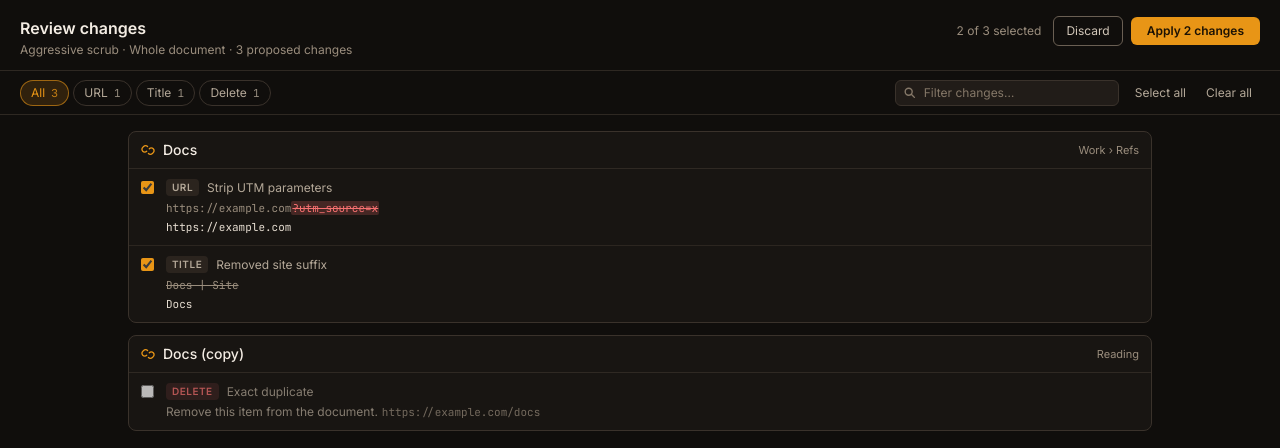
Test: ReviewPane › kind chips filter the list and bulk actions only touch what is shown
Click the button "Title 1" at (166, 92), box [136,80,195,106]
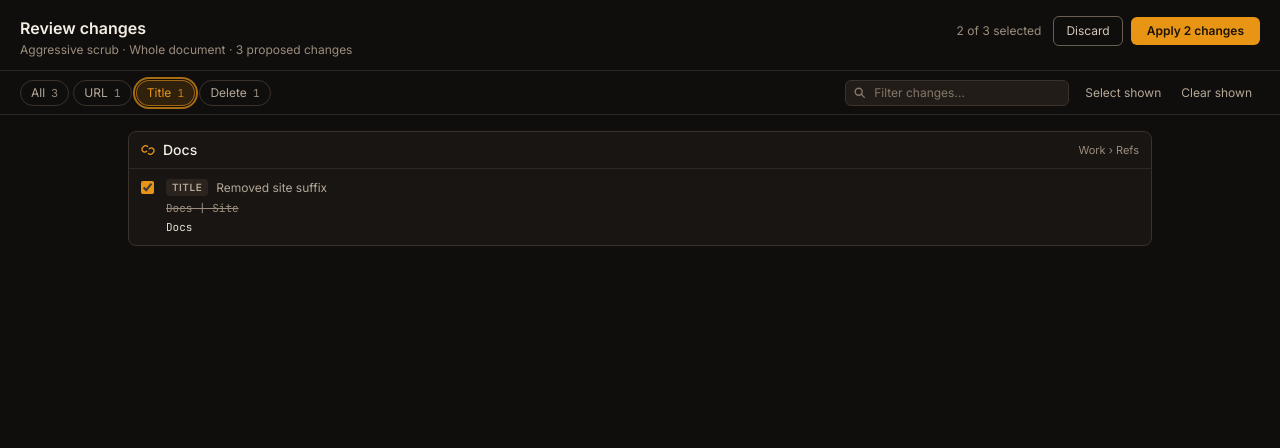
Expected: the text "Docs (copy)" is gone
Click the button "Clear shown" at (1217, 92), box [1173,80,1260,104]
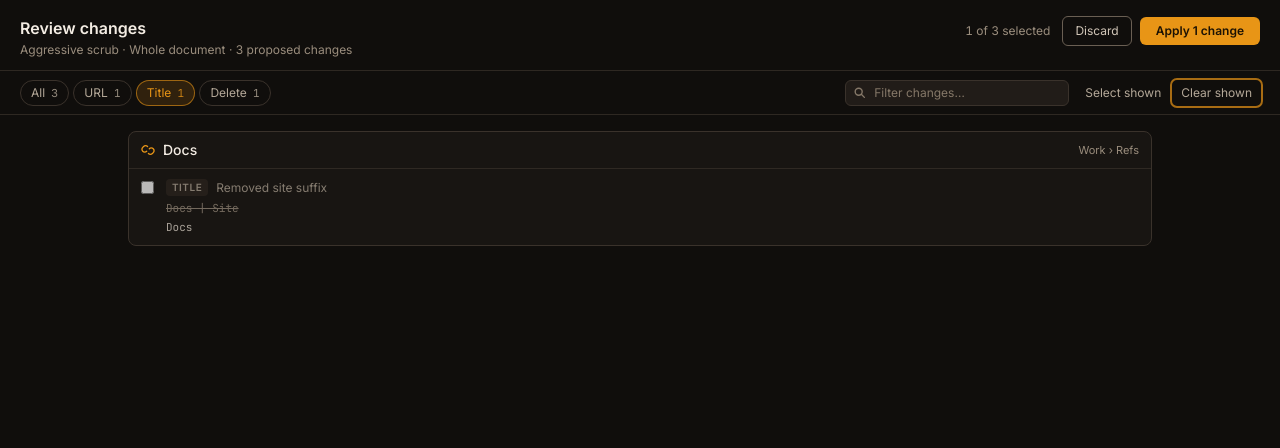
Expected: the text "1 of 3 selected" is shown, [965,23,1050,39]
